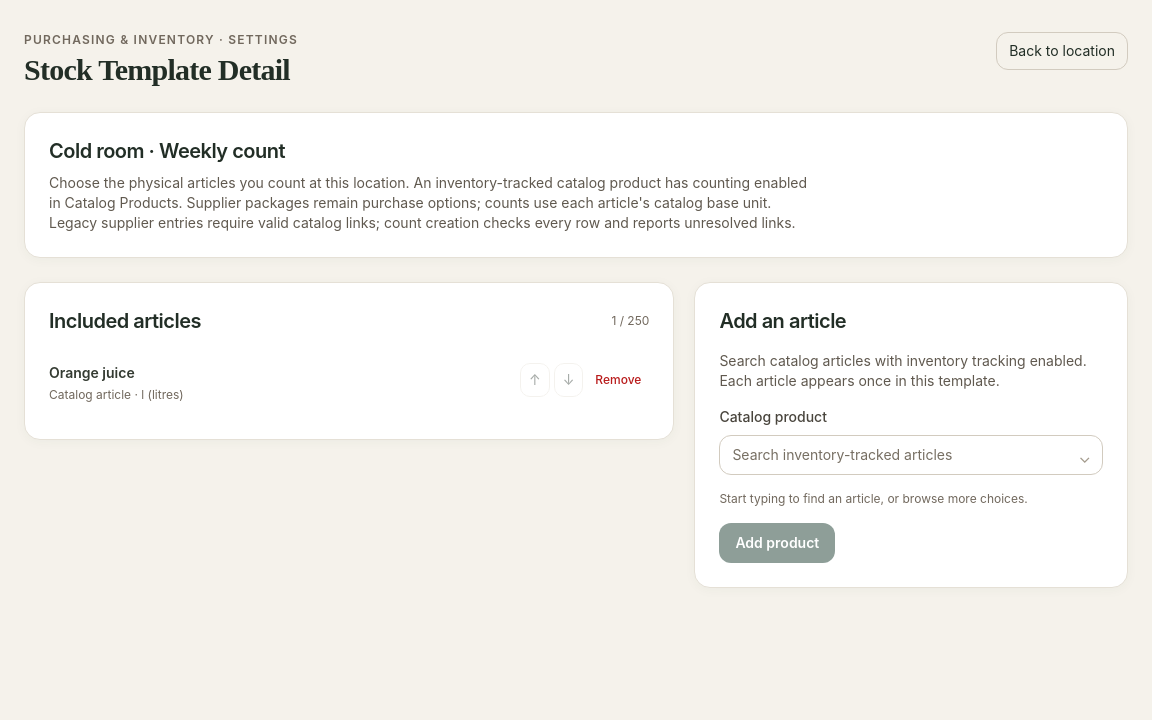
template article names and choices › browses one bounded page at a time, debounces typing and resets its previous cursor
Focus the dropdown labelled "Catalog product" at [911, 455], box [719,435,1103,475]
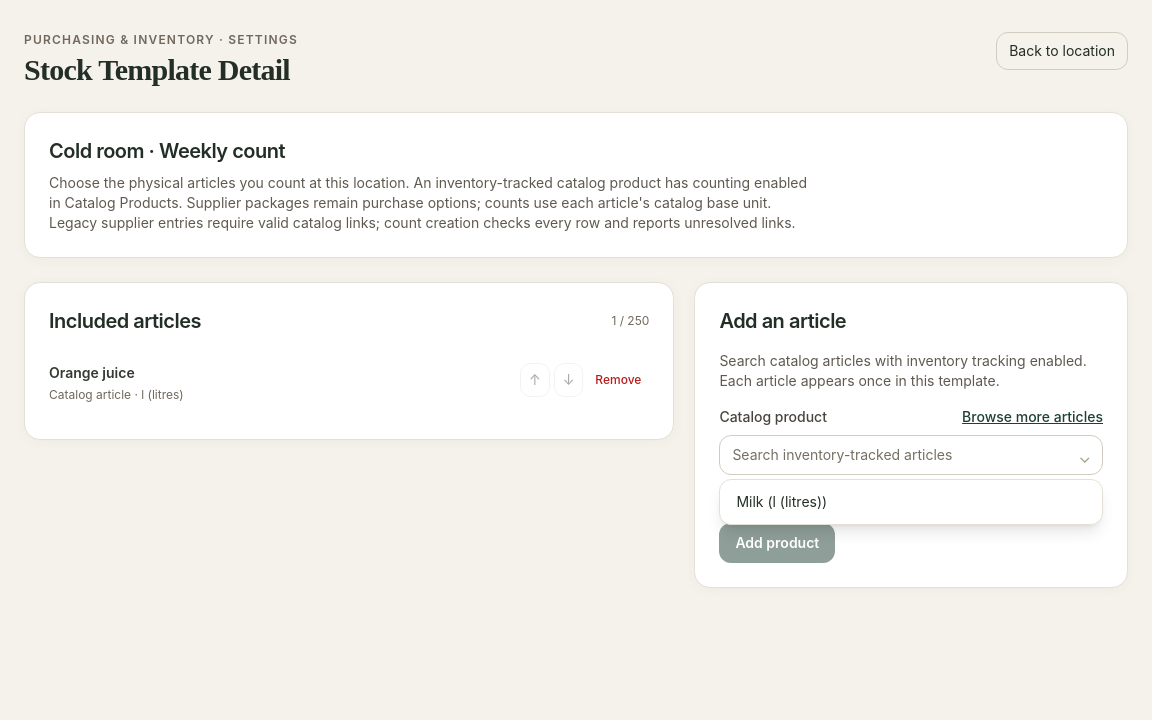
Now the option "Milk (l (litres))" is shown, box [736,493,827,510]
Click the button "Browse more articles".
click(1033, 417)  # box [962,407,1103,427]
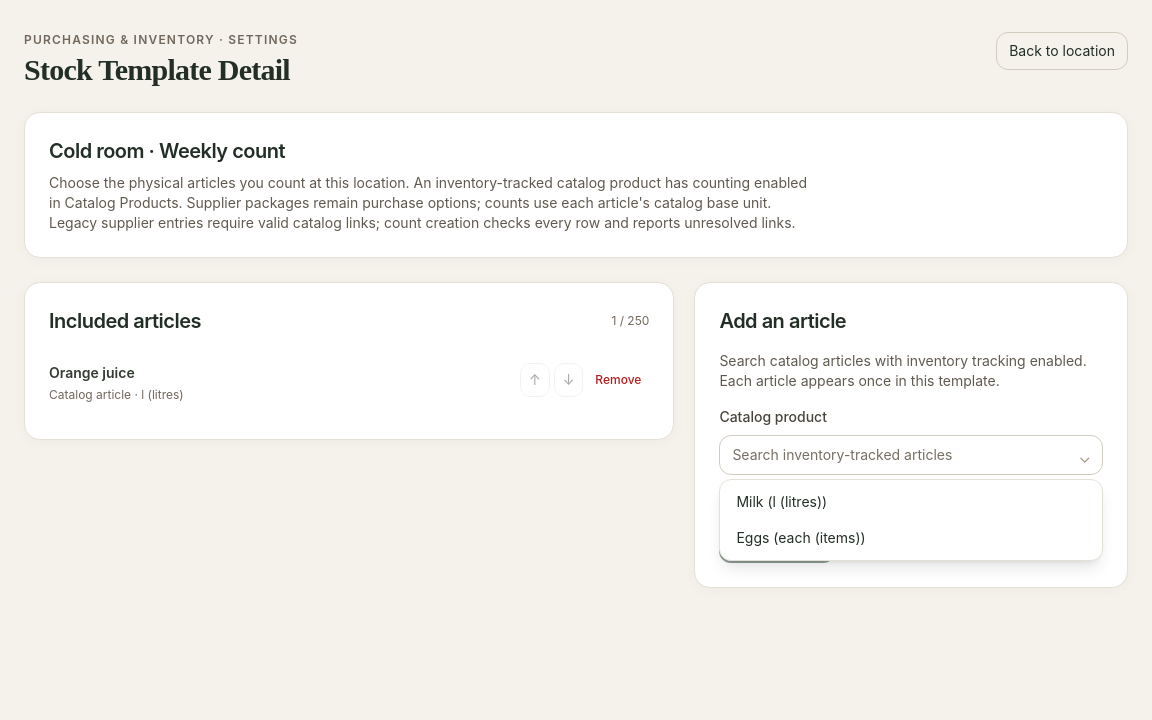
Now the option "Eggs (each (items))" is shown, box [736,529,866,546]
Type "t" into the dropdown labelled "Catalog product".
click(911, 455); type("t")  # box [719,435,1103,475]
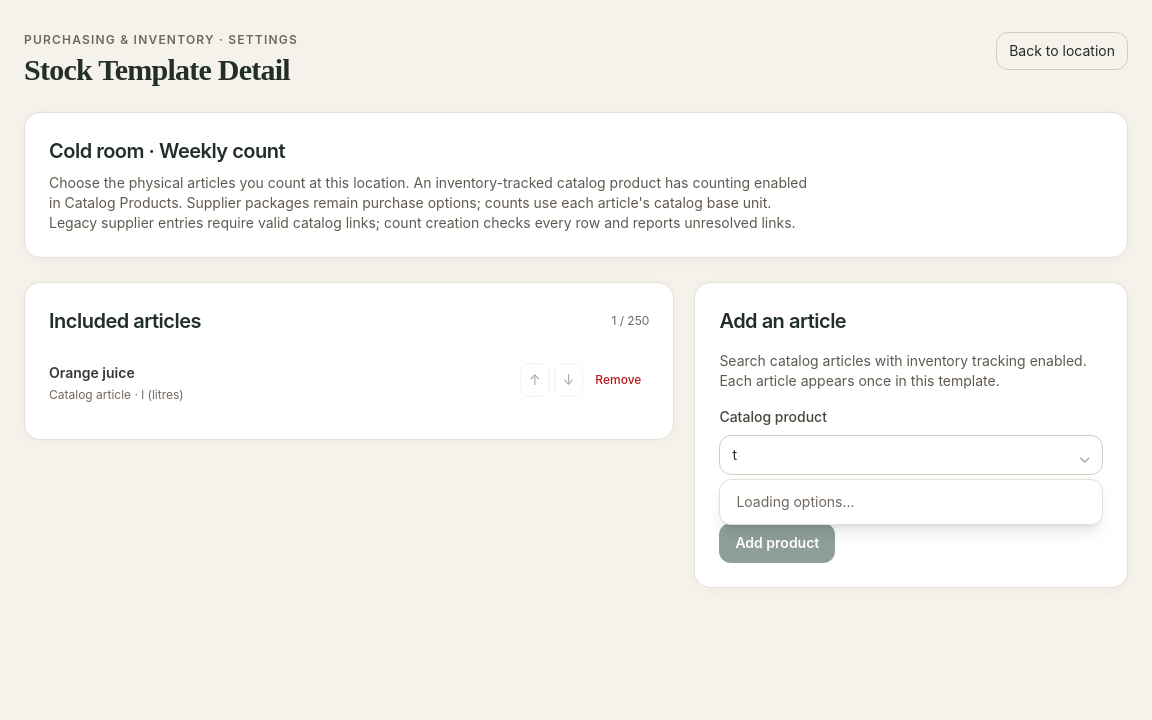
Replace the text in the dropdown labelled "Catalog product" with "te" at [911, 455], box [719,435,1103,475]
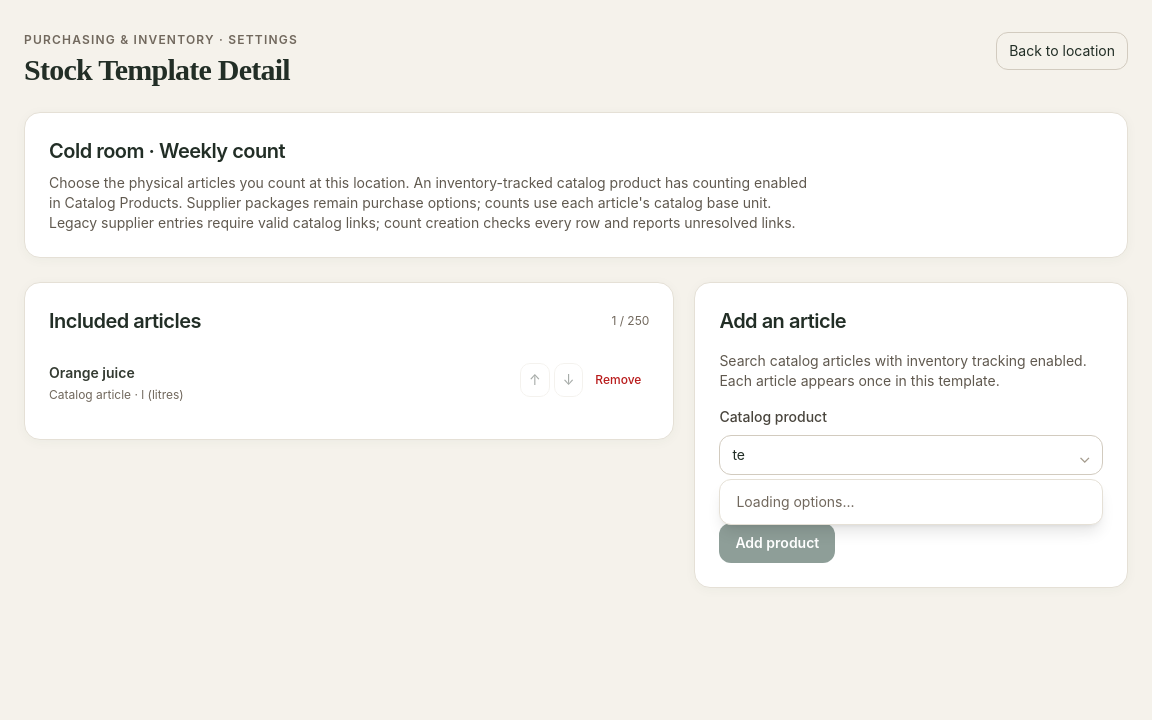
Replace the text in the dropdown labelled "Catalog product" with "tea" at [911, 455], box [719,435,1103,475]
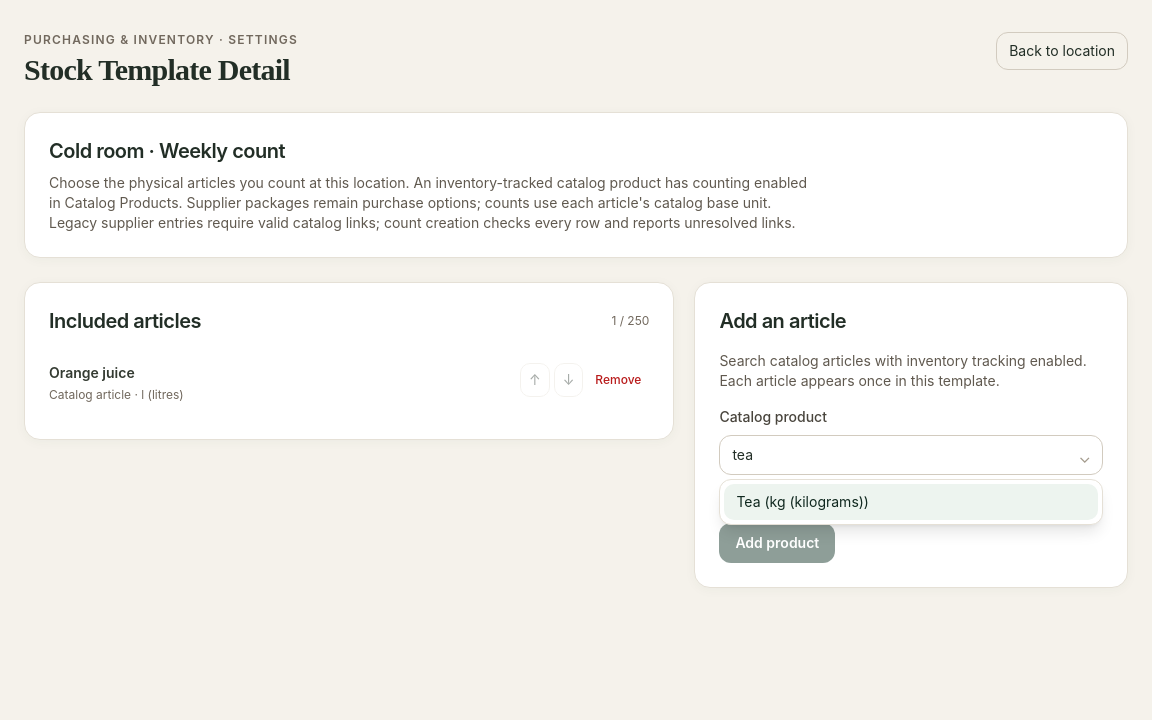
Now the option "Tea (kg (kilograms))" is shown, box [724,484,1098,520]
